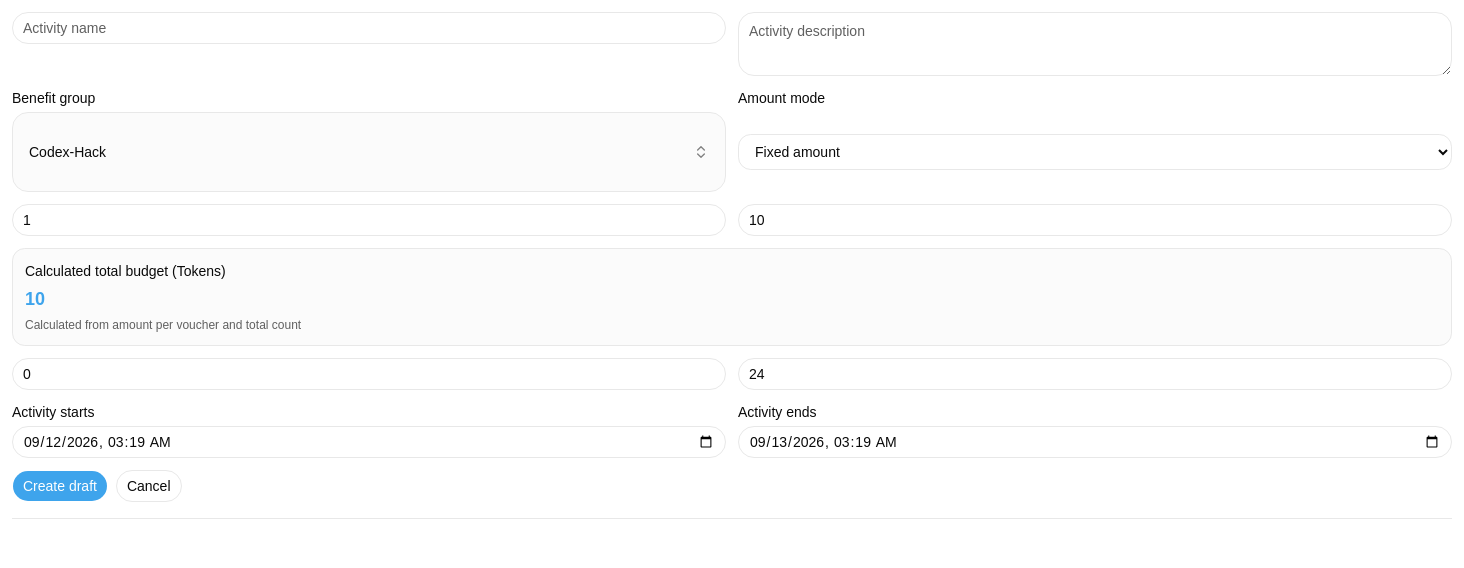
Test: benefit activity form › accepts only whole-number amounts in TOKENS mode
The width and height of the screenshot is (1464, 568).
Type "Weekend" into the field labelled "Activity name" at coordinates (369, 28), box [12,12,726,44]
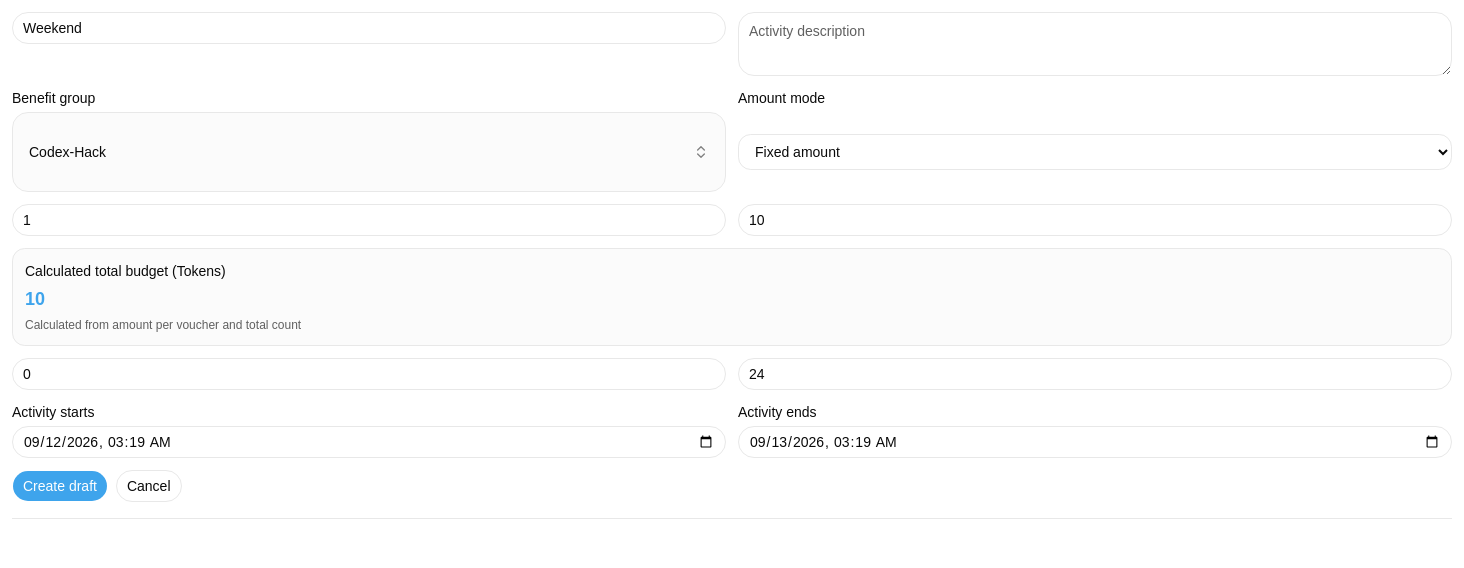
Replace the text in the number field named "Fixed amount (Tokens)" with "2.5" at coordinates (369, 220), box [12,204,726,236]
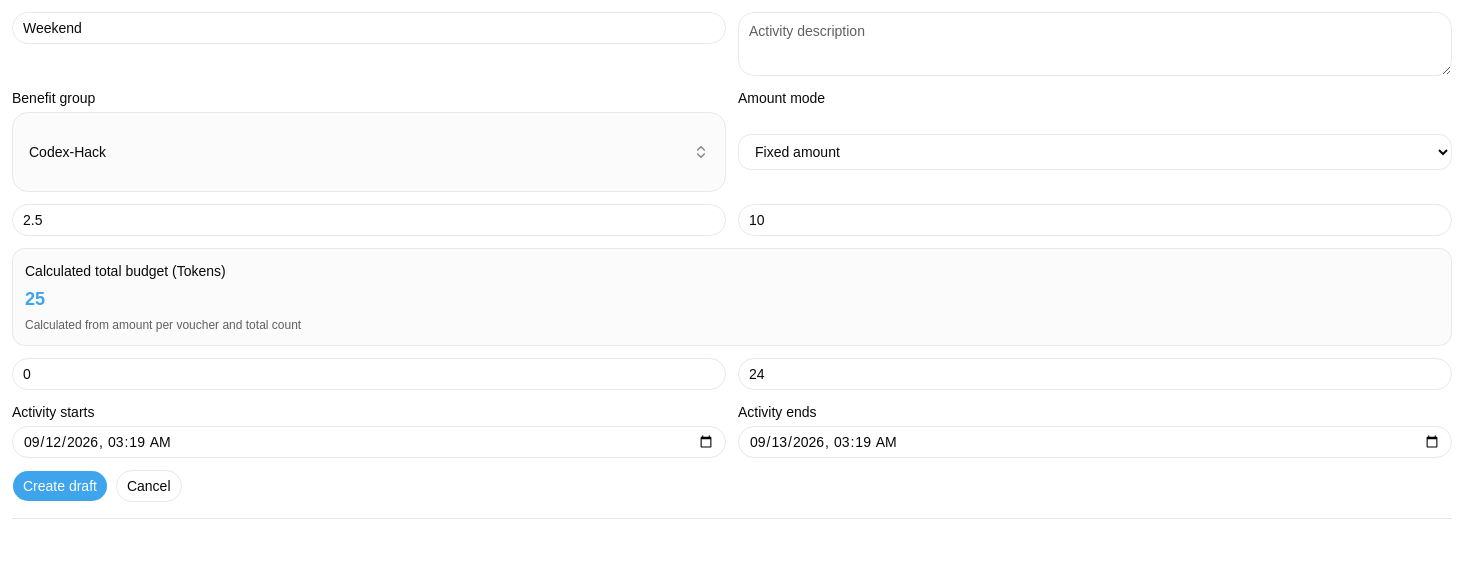
Click the button "Create draft" at coordinates (60, 486), box [12,470,108,502]
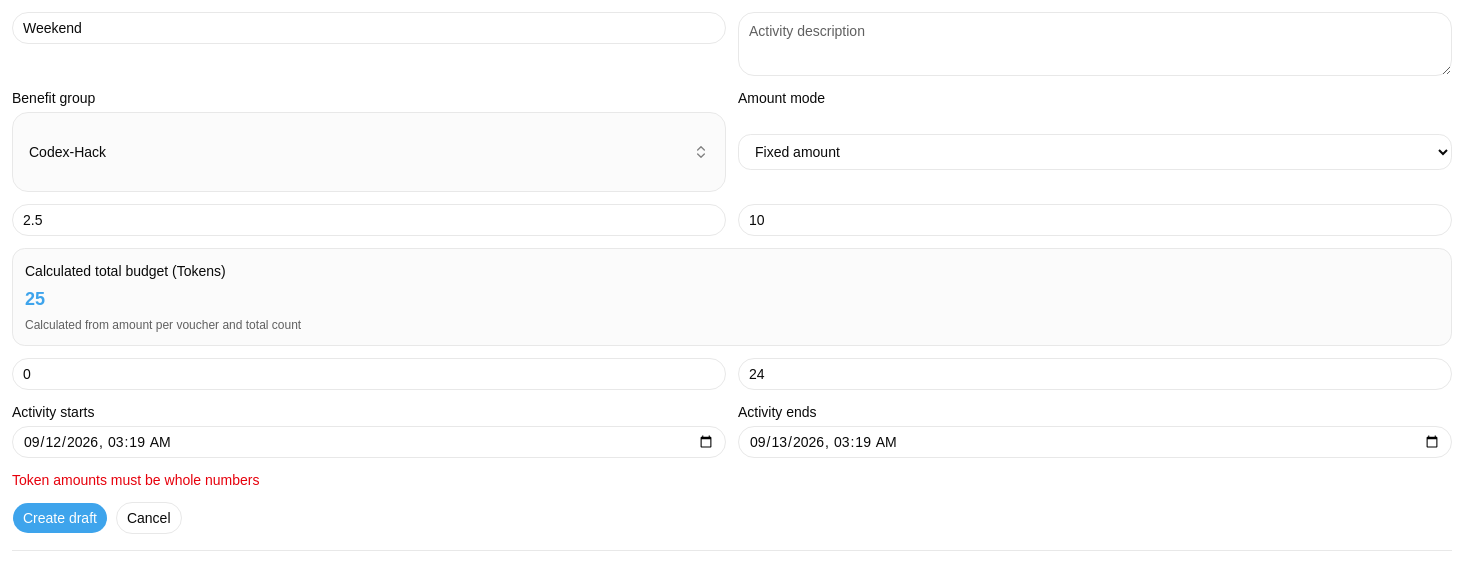
expect the text "Token amounts must be whole numbers" is shown: met, box [12,472,260,488]
